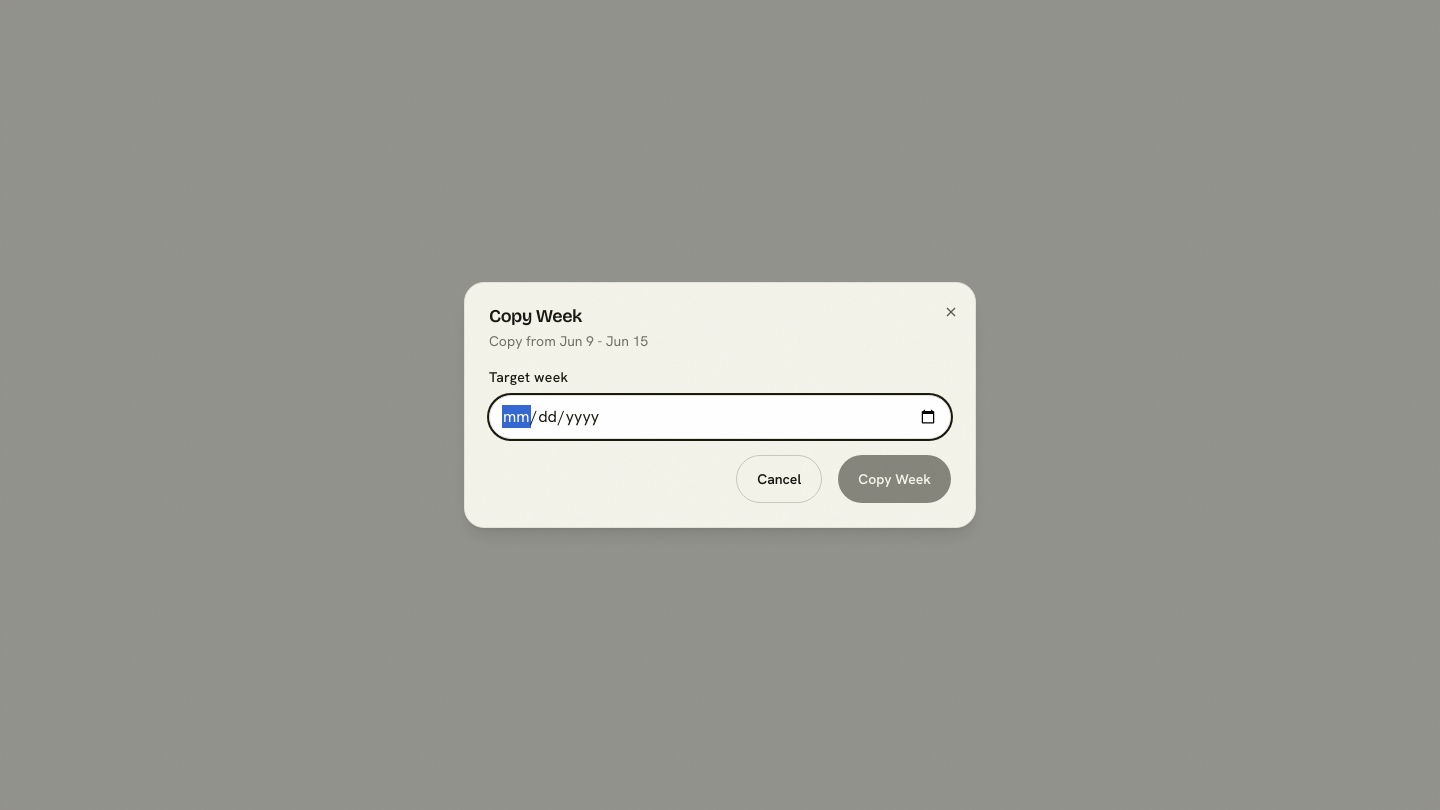
Test: CopyWeekModal › snaps any selected day to the Monday of that week
Type "2025-06-19" into the date field labelled "Target week" at {"x": 720, "y": 417}, box [489,395,951,439]
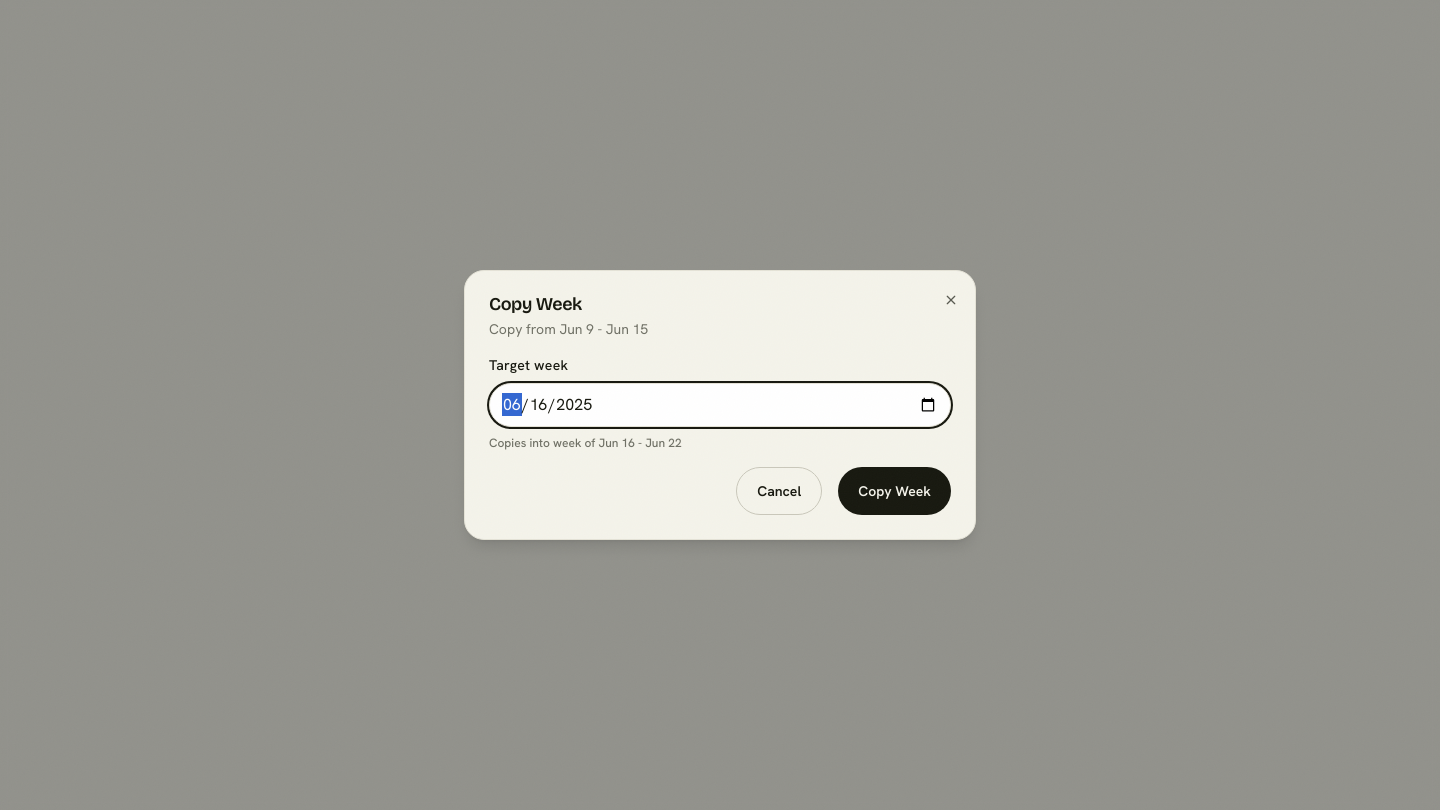
Check: the text "Copies into week of Jun 16 - Jun 22" is shown, box [489,435,682,451]
